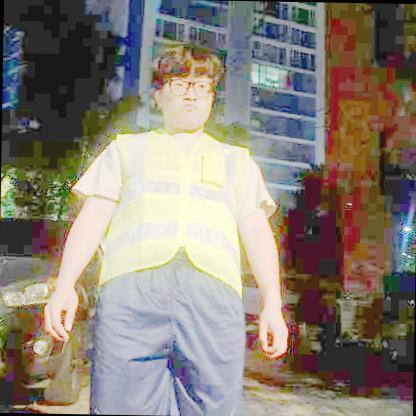no-helmet: (158, 47, 224, 105)
vest: (97, 124, 252, 301)
